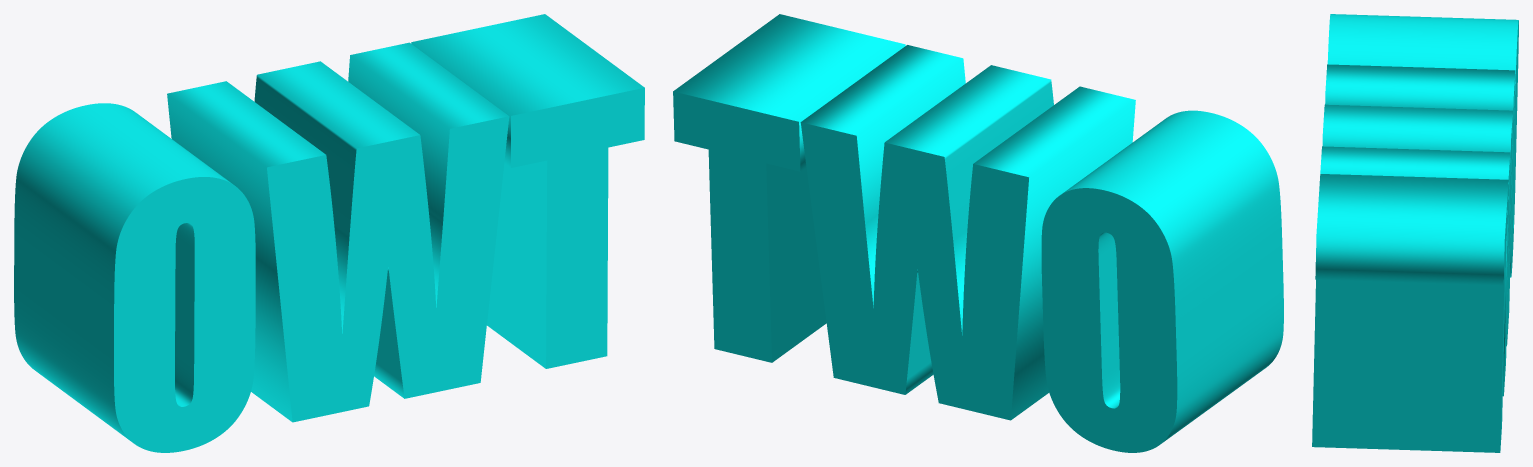
The model's file is 1_Two.glb.
3 views of the same model, side by side, from view 1: azimuth 30°, elevation 25°; view 2: azimuth 150°, elevation 25°; view 3: azimuth 270°, elevation 25° (orthographic). The views are drawn at different scales.
Parts seen in each view (by area): view 1: 1; view 2: 1; view 3: 1.
Part boxes in pixels (left/top/right/bottom): 1: left=14, top=14, right=644, bottom=452; 1: left=673, top=14, right=1283, bottom=452; 1: left=1312, top=14, right=1518, bottom=452.
Bounding box in the file's own units: 0.991 × 0.4912 × 0.373.
